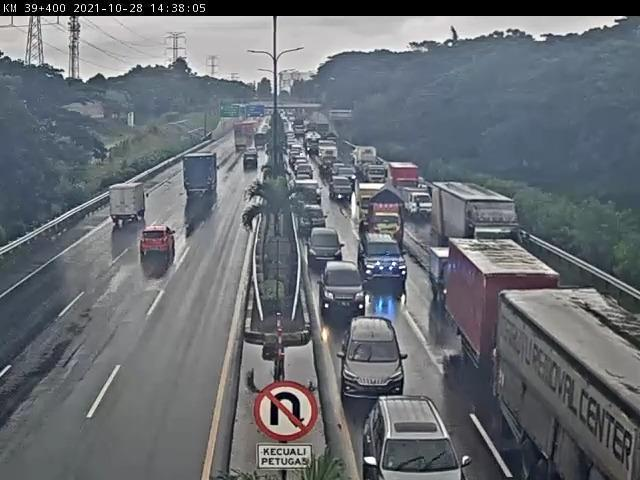car: (357, 379, 466, 480), (341, 316, 414, 400), (316, 252, 376, 319), (113, 228, 190, 276), (356, 231, 407, 291), (303, 221, 353, 270), (298, 202, 329, 240), (404, 191, 434, 223), (330, 180, 352, 208)
truck: (506, 299, 640, 480), (453, 237, 566, 370), (437, 189, 523, 258), (84, 189, 143, 250), (168, 156, 231, 200), (371, 200, 408, 243), (426, 249, 453, 306), (362, 188, 389, 231)
